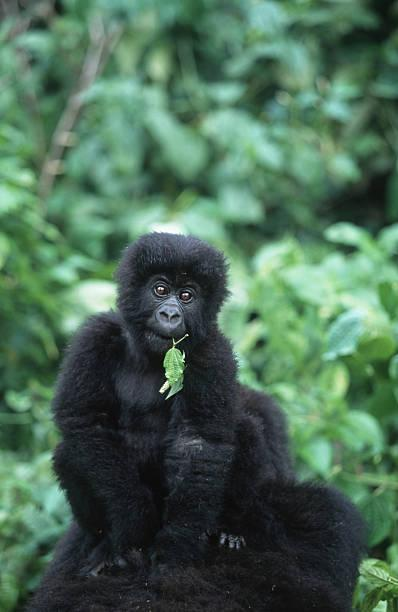goriile_montagne: (53, 194, 250, 565)
